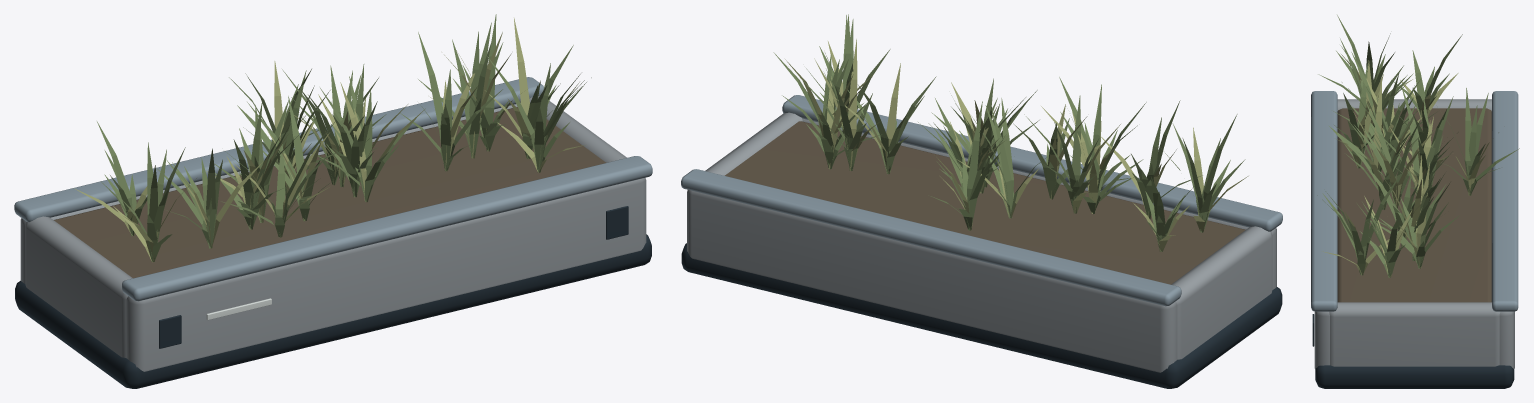
File: GardenIsland.fbx
3 renders of one model, left to right at view 1: azimuth 30°, elevation 25°; view 2: azimuth 150°, elevation 25°; view 3: azimuth 270°, elevation 25°, orthographic. The views are drawn at different scales.
Visible parts, largest first — view 1: GardenIsland_Concrete, GardenIsland_Soil, GardenIsland_Foliage, GardenIsland_Steel, GardenIsland_Dark, GardenIsland_FoliageLight; view 2: GardenIsland_Concrete, GardenIsland_Soil, GardenIsland_Foliage, GardenIsland_Steel, GardenIsland_Dark, GardenIsland_FoliageLight; view 3: GardenIsland_Soil, GardenIsland_Foliage, GardenIsland_Concrete, GardenIsland_Steel, GardenIsland_FoliageLight, GardenIsland_Dark.
Boxes of the visible parts, x1,y1,x2,y2 form: GardenIsland_Concrete: [20, 96, 646, 371]; GardenIsland_Soil: [54, 107, 605, 278]; GardenIsland_Foliage: [97, 14, 591, 261]; GardenIsland_Steel: [14, 77, 652, 301]; GardenIsland_Dark: [15, 206, 651, 388]; GardenIsland_FoliageLight: [74, 18, 585, 262]; GardenIsland_Concrete: [687, 112, 1276, 372]; GardenIsland_Soil: [725, 121, 1245, 284]; GardenIsland_Foliage: [773, 14, 1245, 251]; GardenIsland_Steel: [681, 95, 1282, 306]; GardenIsland_Dark: [681, 243, 1282, 388]; GardenIsland_FoliageLight: [785, 39, 1248, 251]; GardenIsland_Soil: [1337, 108, 1491, 302]; GardenIsland_Foliage: [1317, 15, 1519, 277]; GardenIsland_Concrete: [1314, 99, 1514, 369]; GardenIsland_Steel: [1311, 91, 1518, 311]; GardenIsland_FoliageLight: [1323, 54, 1498, 277]; GardenIsland_Dark: [1312, 314, 1514, 388].
Bounding box in the file's own units: 425 × 166 × 173.
